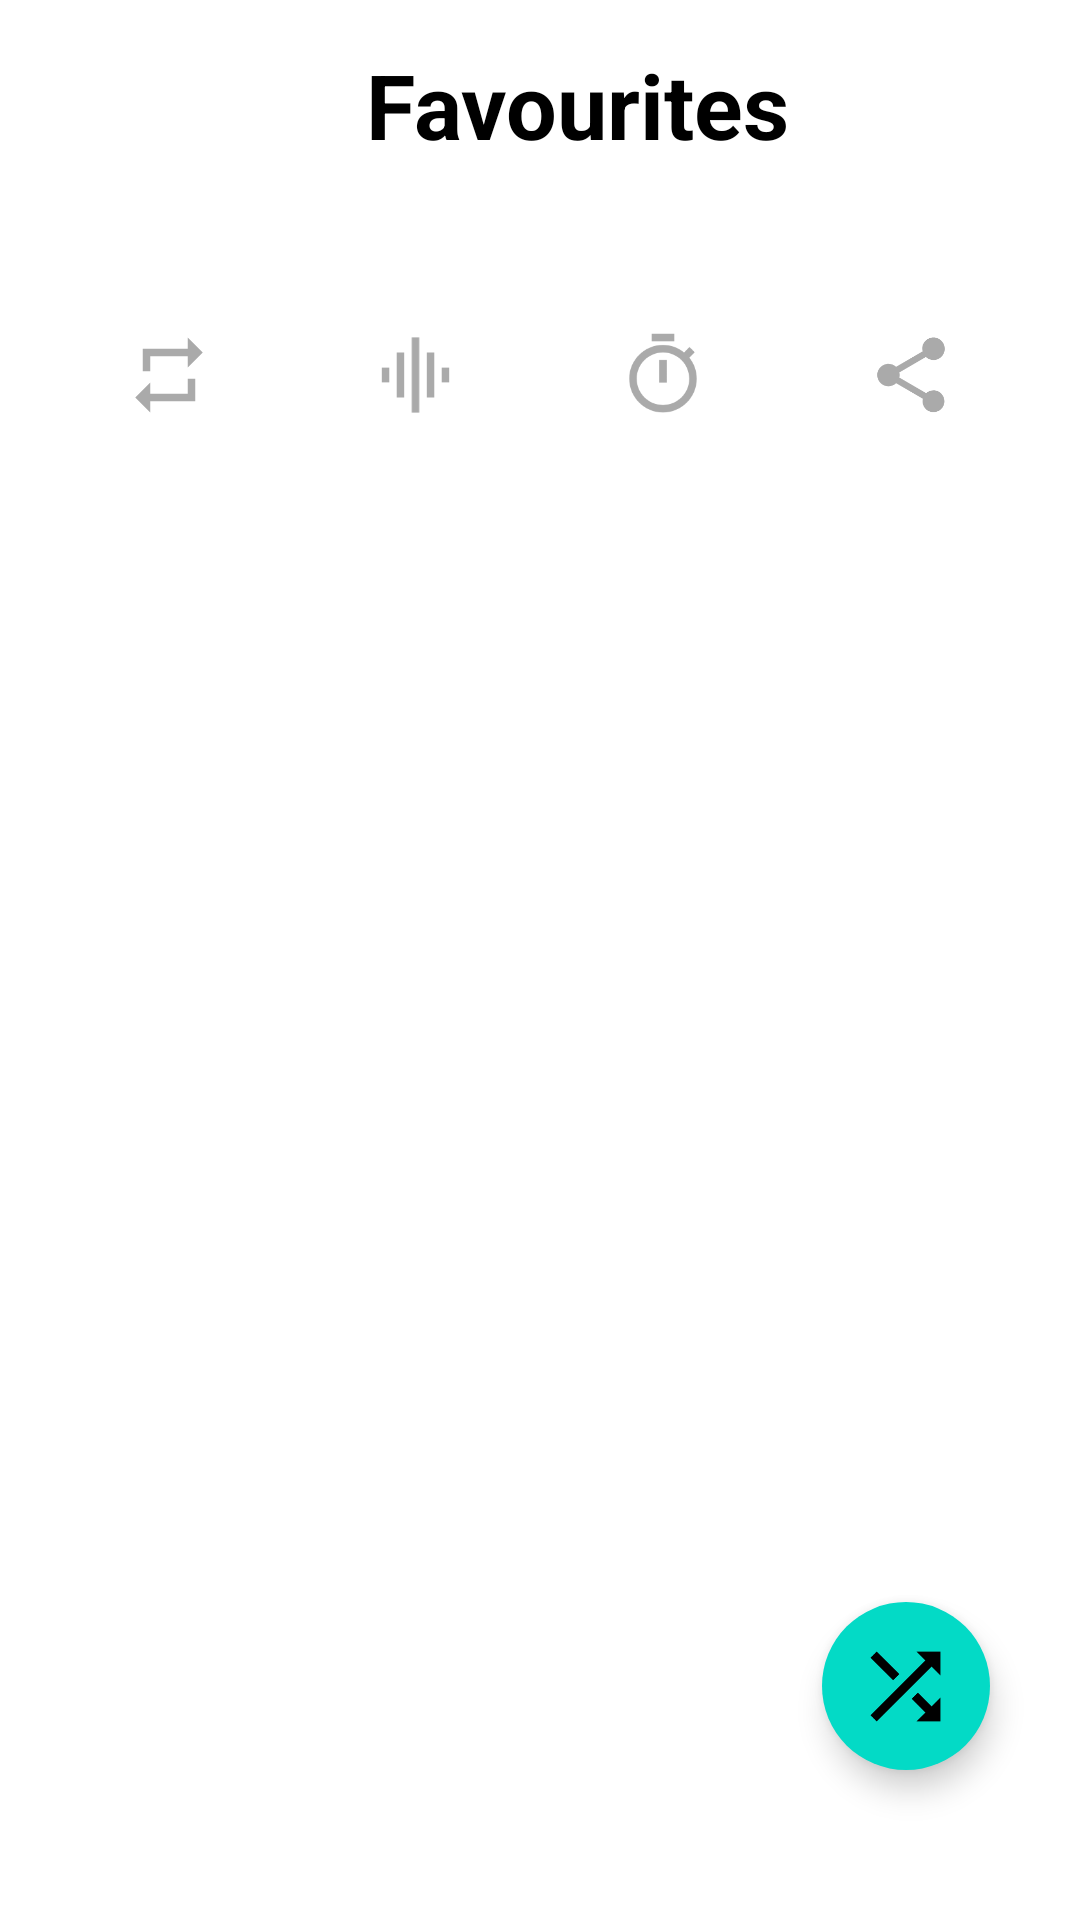

Icon click points for this 1080 x 1920 phone screenshot, format (x,y):
repeat: (169,375)
share: (911,374)
shuffle: (906,1686)
timer: (663,373)
